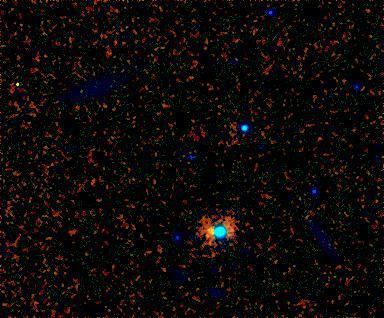star: (195, 214, 225, 244)
